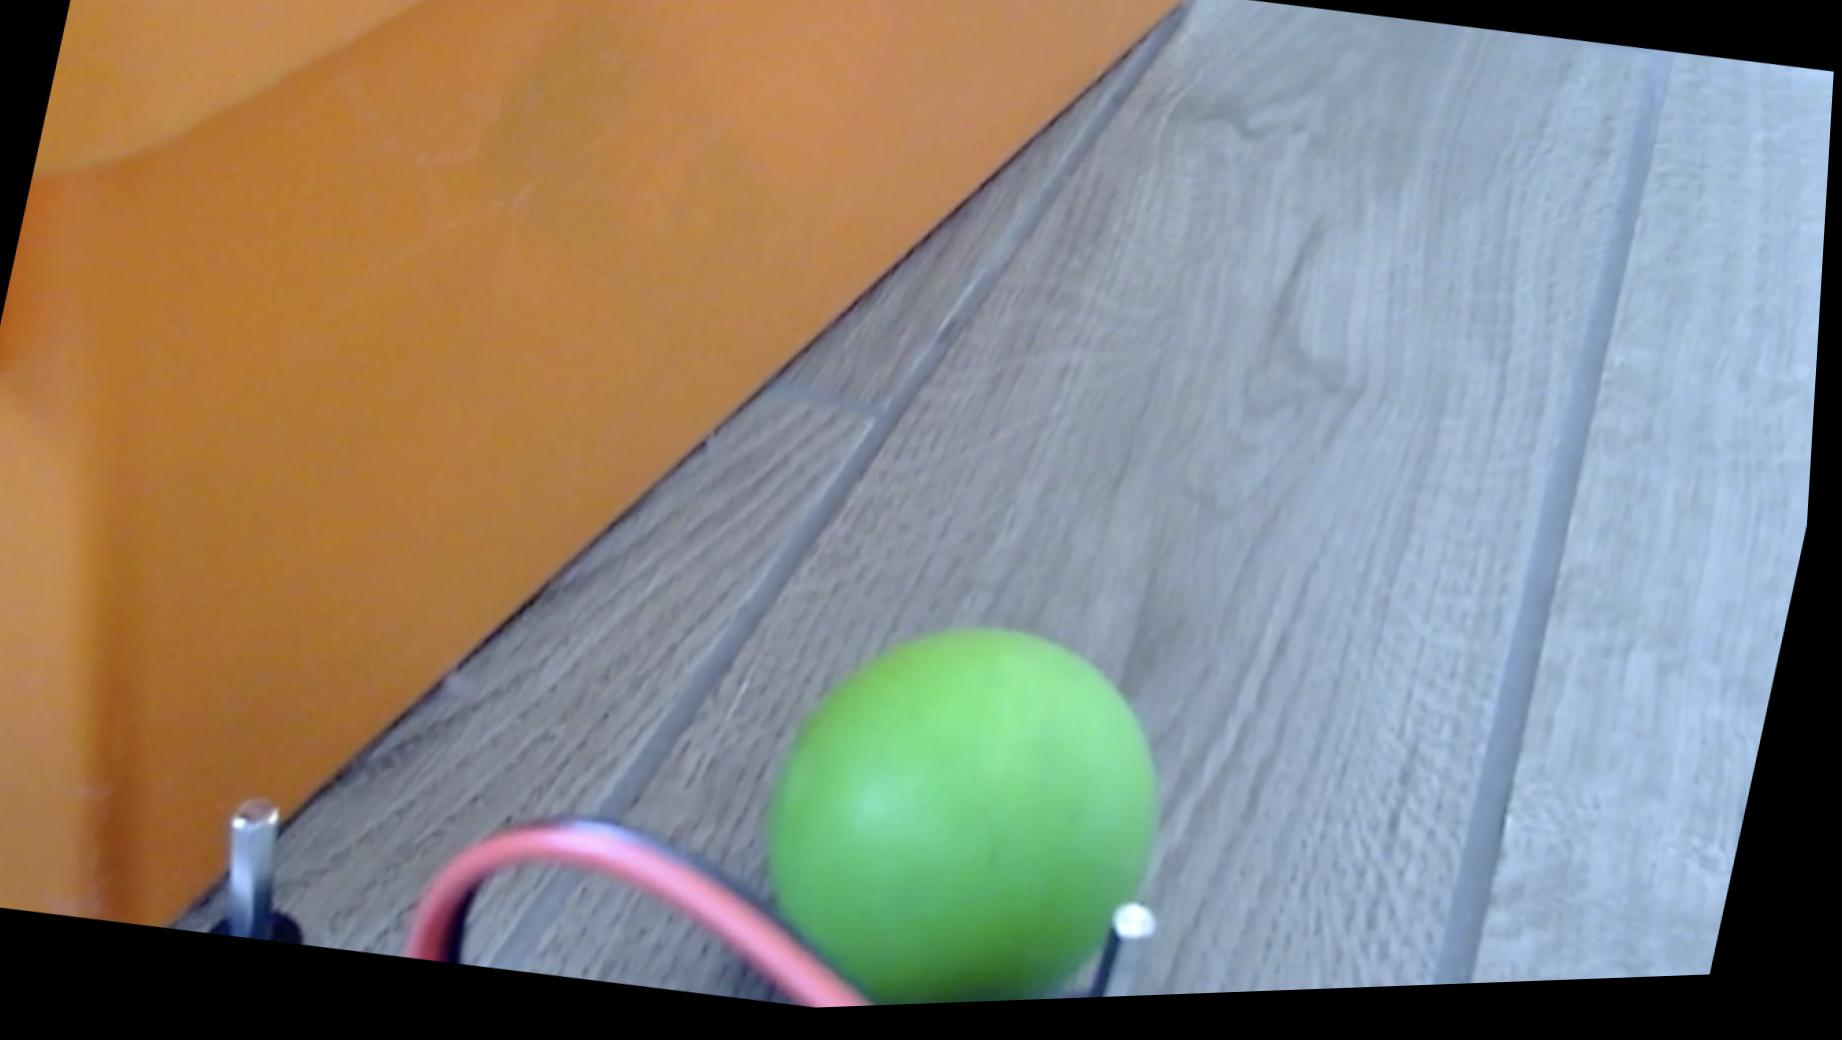greenball: (736, 595, 1211, 1017)
